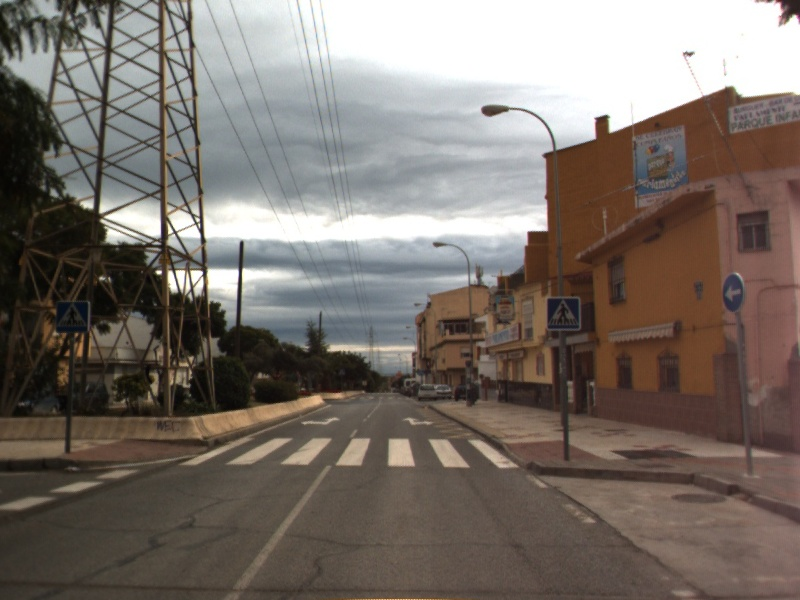STRAIGHT_LEFT: (299, 414, 343, 427)
STRAIGHT_RIGHT: (400, 415, 436, 428)
